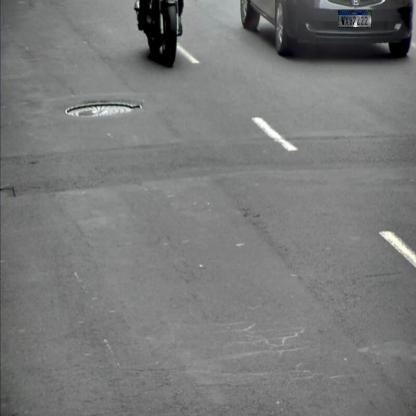PlacaM: (338, 10, 372, 28)
